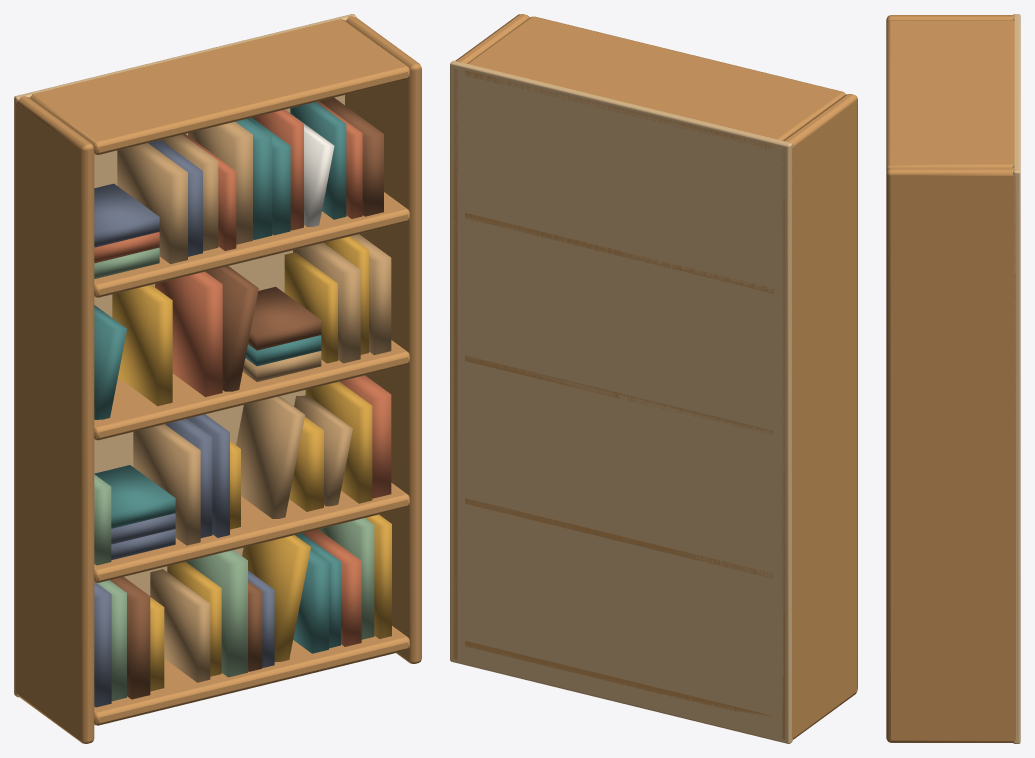
Rendered from library_l1.glb.
3 renders of one model, left to right at view 1: azimuth 30°, elevation 25°; view 2: azimuth 150°, elevation 25°; view 3: azimuth 270°, elevation 25°, orthographic. The views are drawn at different scales.
Parts seen in each view (by area): view 1: library_l1; view 2: library_l1; view 3: library_l1.
Part boxes in pixels (x1,y1,x2,y2): library_l1: (14, 14, 421, 743); library_l1: (450, 14, 857, 743); library_l1: (886, 14, 1020, 743).
Bounding box in the file's own units: 0.95 × 1.6 × 0.34.
